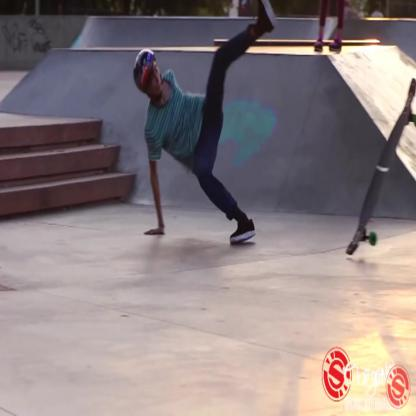Fall_Down: (132, 0, 279, 250)
